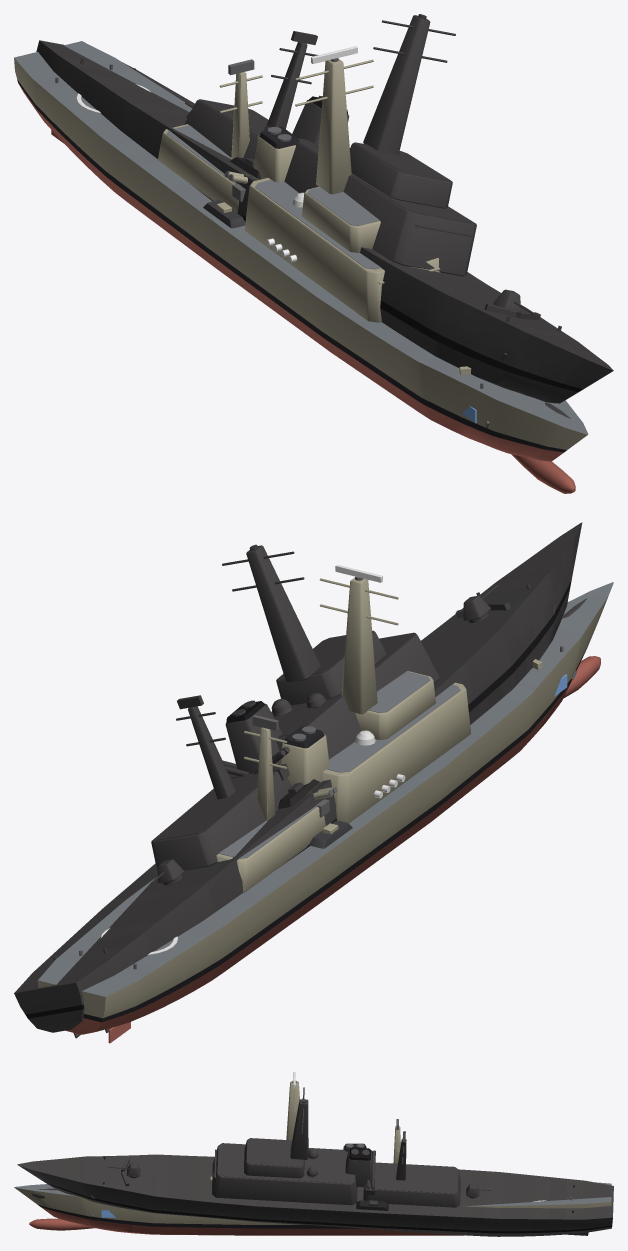
Rendered from asFrigate__moudge_class.glb.
3 views of the same model, one above another, from view 1: azimuth 30°, elevation 25°; view 2: azimuth 150°, elevation 25°; view 3: azimuth 270°, elevation 25° (orthographic). The views are drawn at different scales.
Visible parts, largest first — view 1: Hull_Mesh, Wreck; view 2: Hull_Mesh, Wreck; view 3: Wreck, Hull_Mesh.
Part boxes in pixels (x1,y1,x2,y2): Hull_Mesh: (14,41,588,493); Wreck: (36,14,613,418); Hull_Mesh: (37,577,613,1043); Wreck: (14,522,586,1038); Wreck: (17,1087,613,1236); Hull_Mesh: (14,1081,611,1235).
Size of what is drawn, in the model's own units: 19.06 by 28.97 by 98.86.
